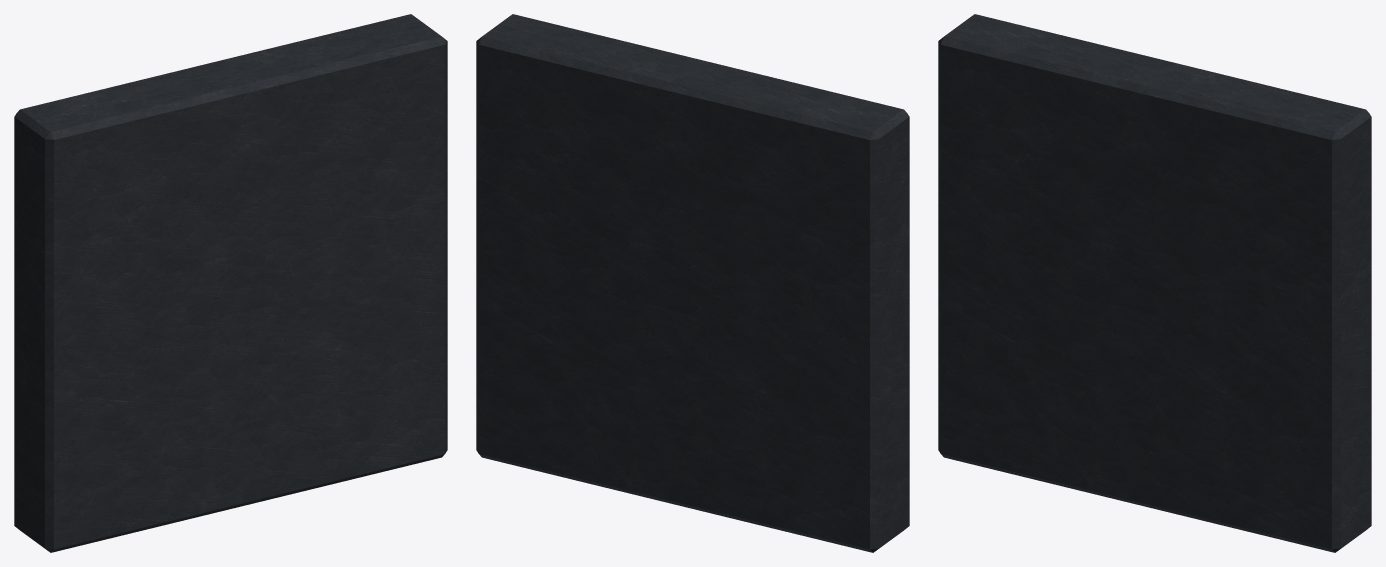
The model's file is train_cab_wall_side.gltf.
3 renders of one model, left to right at view 1: azimuth 30°, elevation 25°; view 2: azimuth 150°, elevation 25°; view 3: azimuth 330°, elevation 25°, orthographic.
Size of the model in its own units: 1 by 1 by 0.16.
2 materials, 2 textured.
